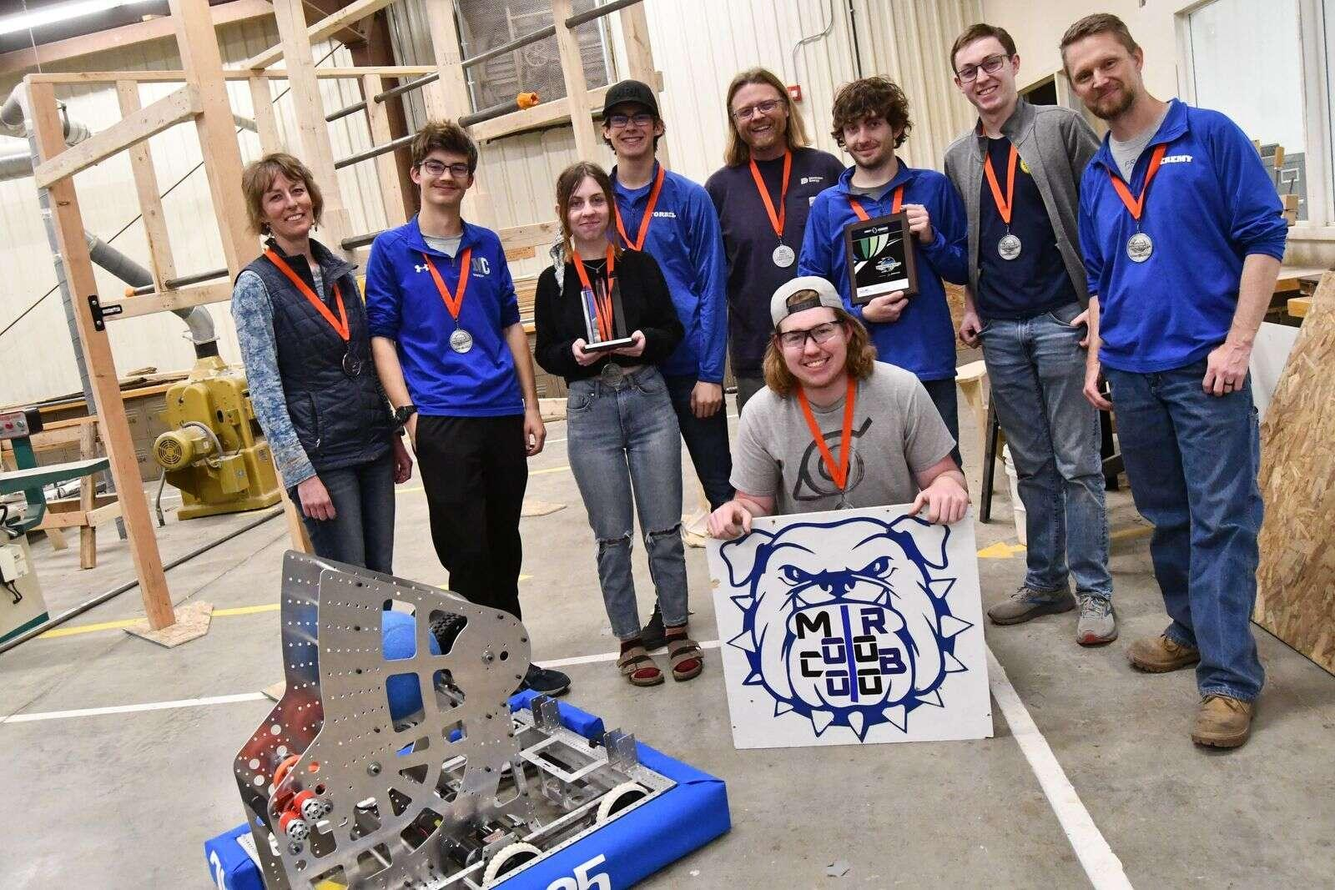robot: (197, 545, 734, 890)
